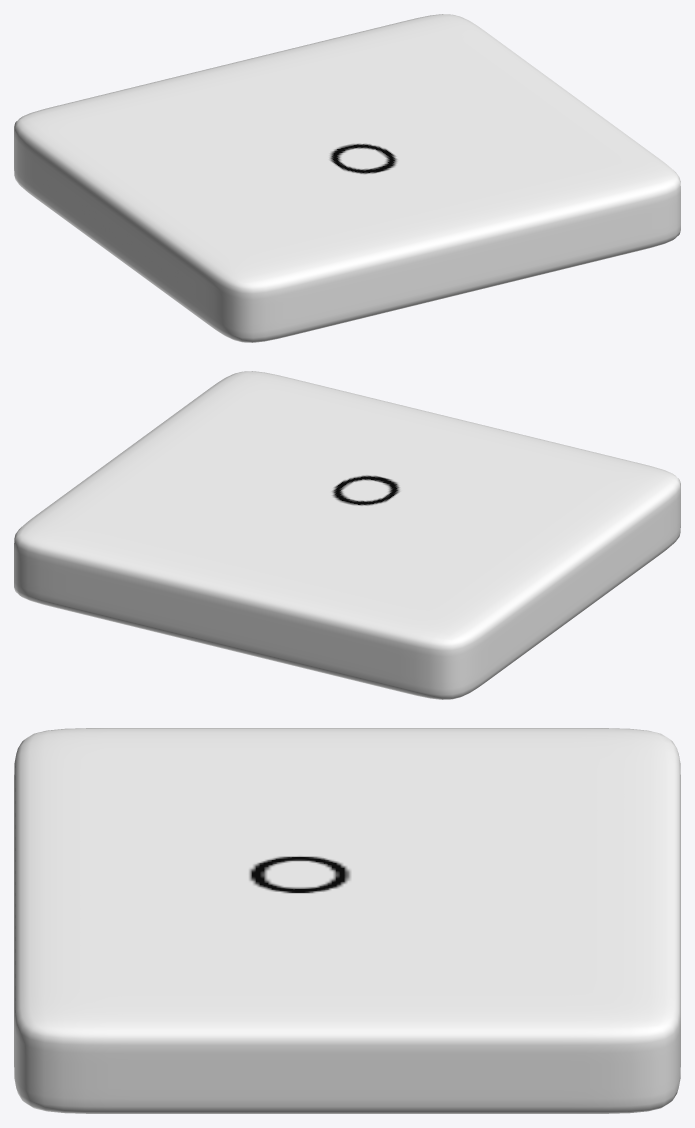
3 renders of one model, top to bottom at view 1: azimuth 30°, elevation 25°; view 2: azimuth 150°, elevation 25°; view 3: azimuth 270°, elevation 25°, orthographic. The views are drawn at different scales.
Visible parts, largest first — view 1: 立方体; view 2: 立方体; view 3: 立方体.
Part boxes in pixels (x1,y1,x2,y2): 立方体: (14,14,680,342); 立方体: (14,371,680,699); 立方体: (14,728,680,1113).
Bounding box in the file's own units: 220 × 30 × 200.
1 material, 1 textured.
